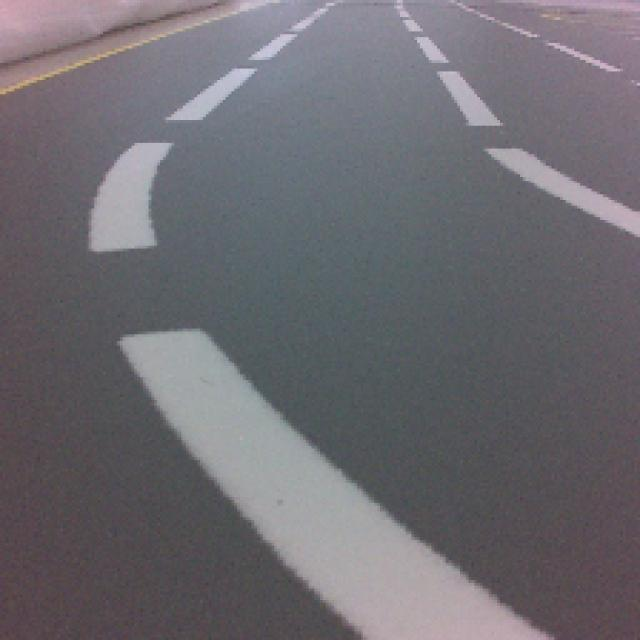Pedestrian crosswalk: (118, 330, 549, 640)
